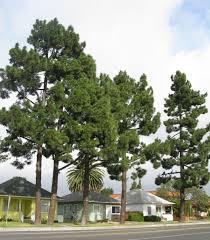tree: (3, 15, 98, 228), (97, 67, 161, 223), (159, 70, 210, 224)
